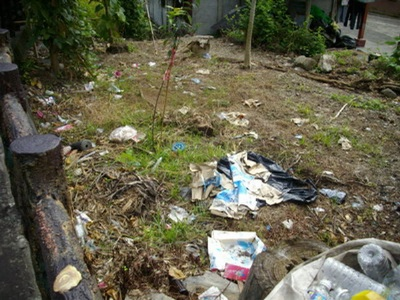bottle: (315, 256, 391, 297)
plastic_bag: (185, 149, 320, 219)
